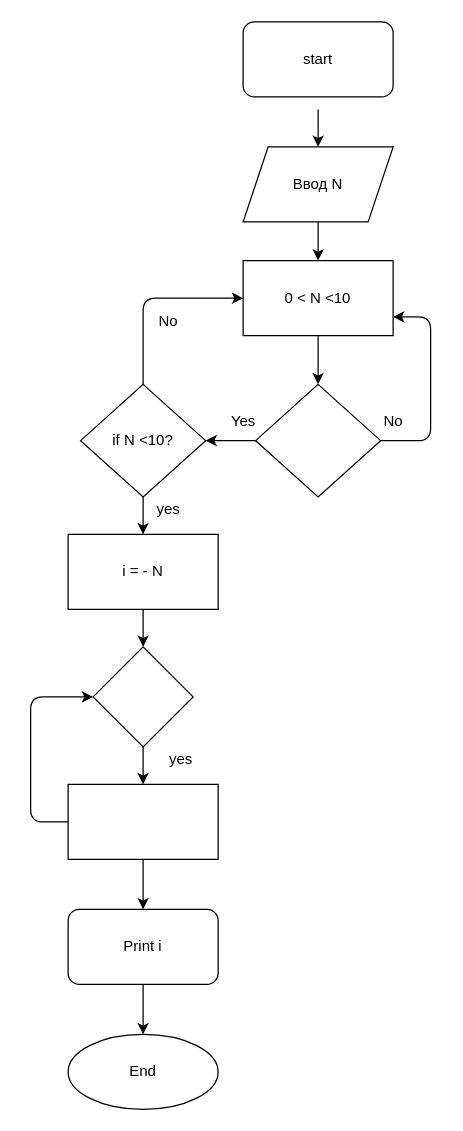
The diagram is 463 pixels wide and 1131 high, and some of its shapes have lost their labels. Each missing label, with the centre of its shape:
"i = i + 1" goes at (142,821).
"If i <= N?" goes at (142,696).
"if N >0?" goes at (317,440).
